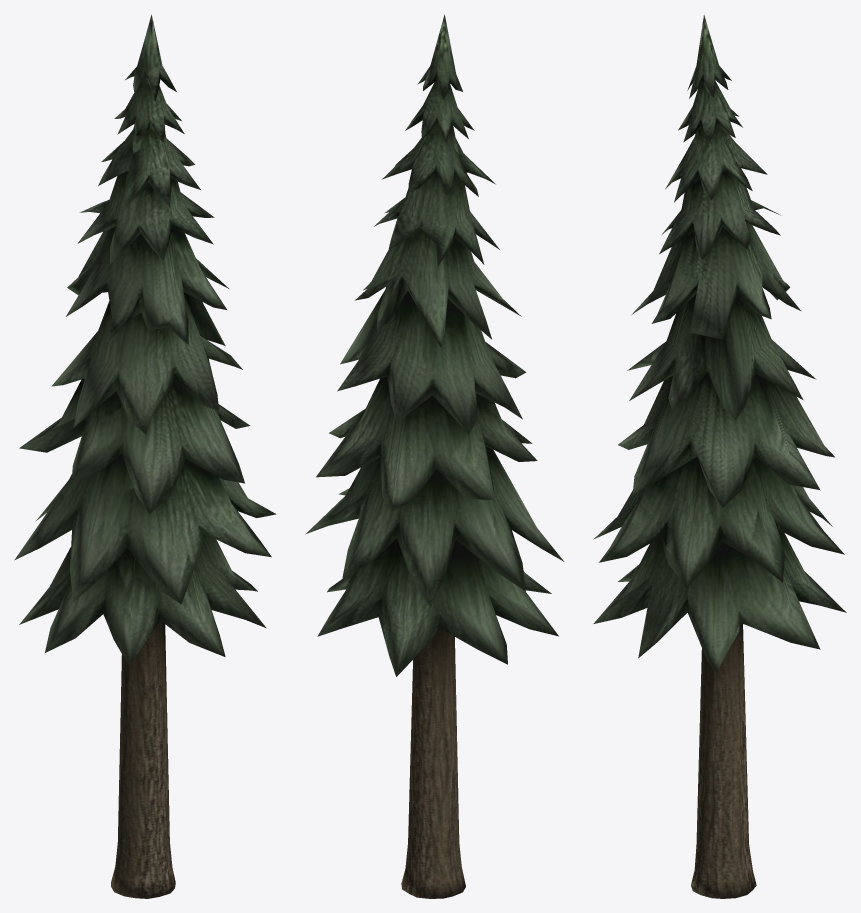
File: pine-tripo-05.glb
The picture shows the model from 3 angles, left to right: view 1: azimuth 30°, elevation 25°; view 2: azimuth 150°, elevation 25°; view 3: azimuth 270°, elevation 25°; orthographic projection.
Parts seen in each view (by area): view 1: tripo_node_04eb25b5-a553-4236-a324-ed8159e9102a; view 2: tripo_node_04eb25b5-a553-4236-a324-ed8159e9102a; view 3: tripo_node_04eb25b5-a553-4236-a324-ed8159e9102a.
Part boxes in pixels (left/top/right/bottom): tripo_node_04eb25b5-a553-4236-a324-ed8159e9102a: left=14, top=14, right=276, bottom=898; tripo_node_04eb25b5-a553-4236-a324-ed8159e9102a: left=305, top=14, right=564, bottom=898; tripo_node_04eb25b5-a553-4236-a324-ed8159e9102a: left=593, top=15, right=846, bottom=898.
Bounding box in the file's own units: 0.2715 × 0.998 × 0.2637.
1 material, 1 textured.
